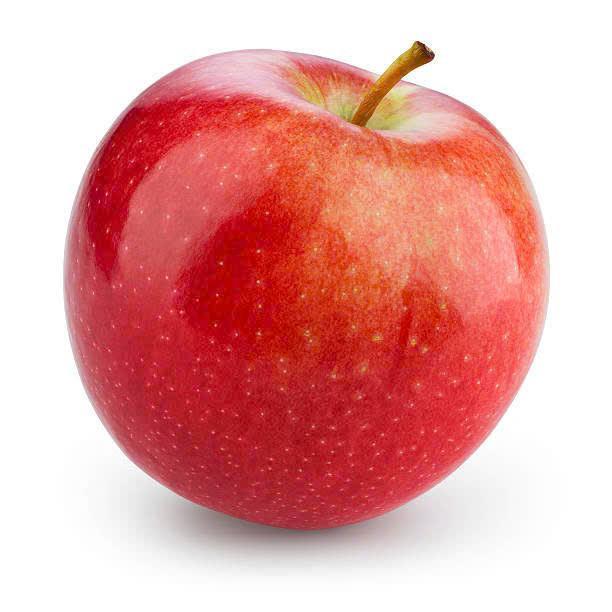apple: (55, 34, 569, 551)
